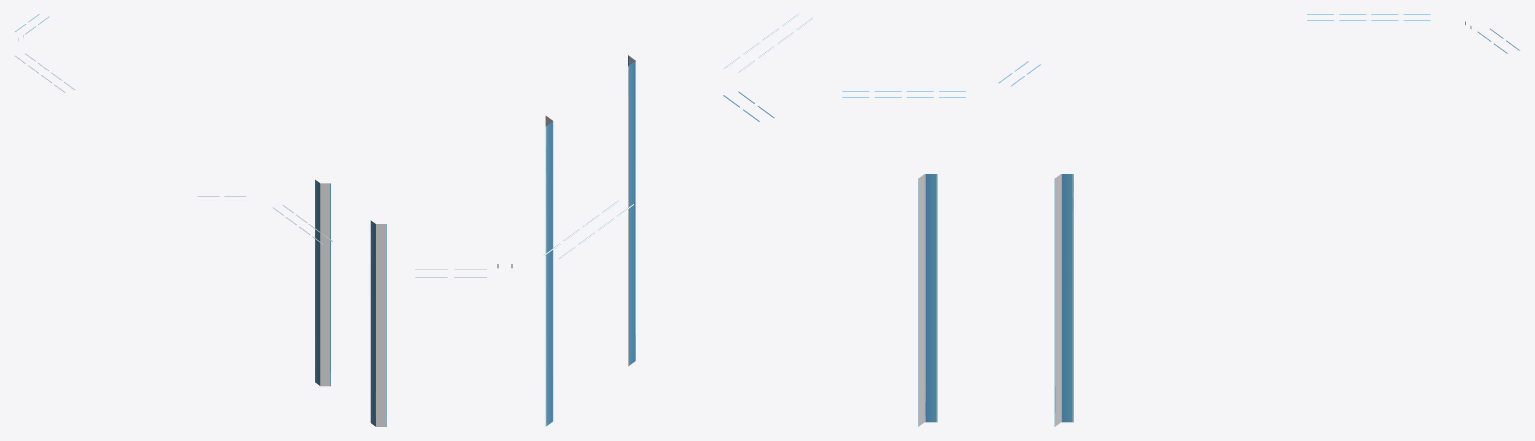
The model's file is S03_AFN_02.OBJ.
The picture shows the model from 3 angles, left to right: view 1: azimuth 30°, elevation 25°; view 2: azimuth 150°, elevation 25°; view 3: azimuth 270°, elevation 25°; orthographic projection. The views are drawn at different scales.
Parts seen in each view (by area): view 1: s03_afn_02_0; view 2: s03_afn_02_0; view 3: s03_afn_02_0.
Boxes of the visible parts, x1=… form: s03_afn_02_0: x1=15, y1=14, x2=386, y2=426; s03_afn_02_0: x1=415, y1=14, x2=813, y2=426; s03_afn_02_0: x1=842, y1=14, x2=1519, y2=426.
Bounding box in the file's own units: 1790 × 2734 × 5269.
